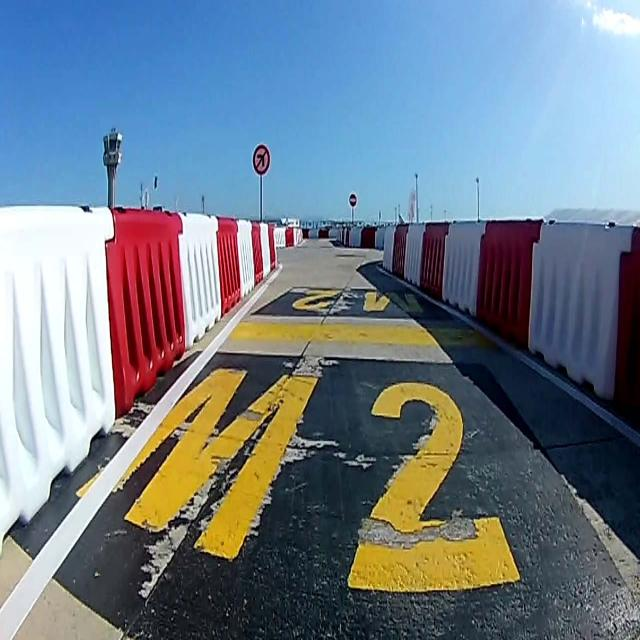girisyok: (349, 193, 357, 206)
soladonulmez: (252, 145, 270, 175)
